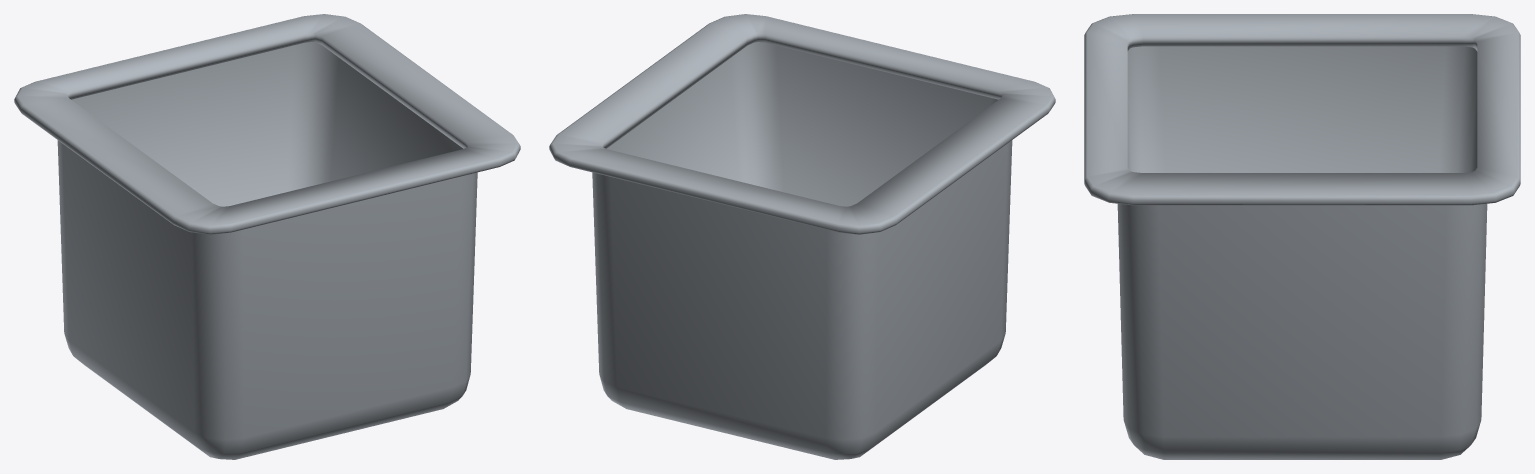
The model's file is Kitchen-Tub-4.fbx.
3 renders of one model, left to right at view 1: azimuth 30°, elevation 25°; view 2: azimuth 150°, elevation 25°; view 3: azimuth 270°, elevation 25°, orthographic. The views are drawn at different scales.
Visible parts, largest first — view 1: Kitchen-Tub-1.003; view 2: Kitchen-Tub-1.003; view 3: Kitchen-Tub-1.003.
Boxes of the visible parts, x1,y1,x2,y2 form: Kitchen-Tub-1.003: [14, 14, 520, 459]; Kitchen-Tub-1.003: [549, 14, 1055, 459]; Kitchen-Tub-1.003: [1084, 14, 1520, 459].
Bounding box in the file's own units: 0.2 × 0.1494 × 0.2.
